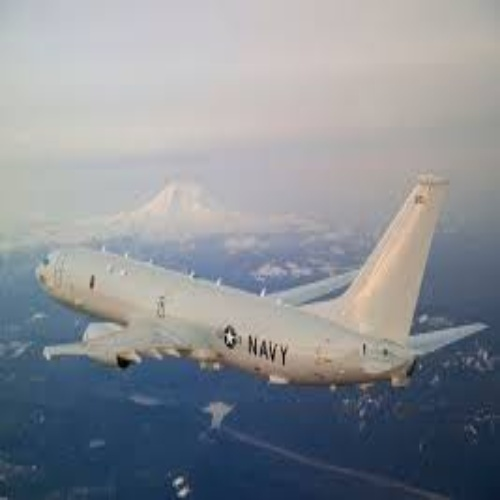uav231: (34, 173, 492, 404)
